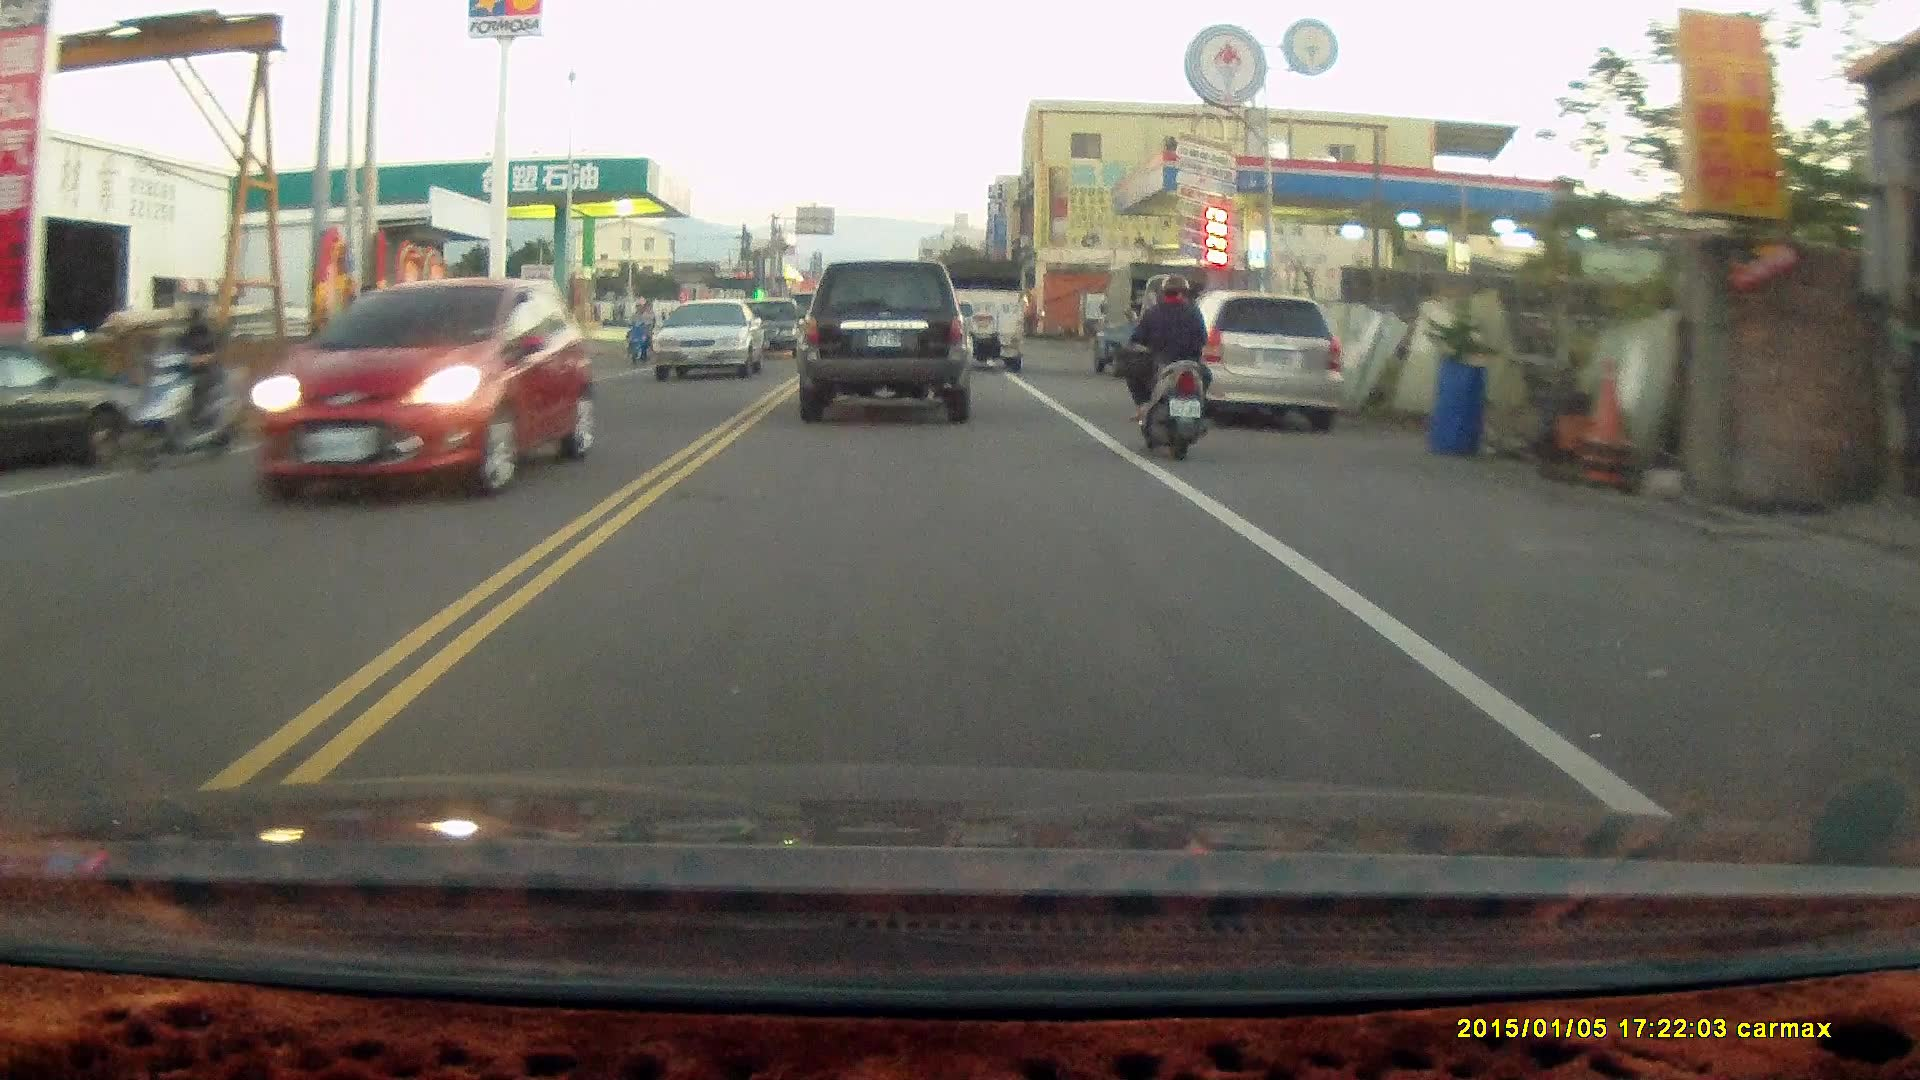rider: (103, 296, 247, 479), (1117, 271, 1214, 457), (622, 298, 659, 364)
vehicle: (261, 278, 592, 503), (358, 280, 564, 433), (795, 259, 970, 424), (1163, 291, 1341, 436), (1, 331, 138, 470), (1094, 262, 1209, 378), (938, 252, 1026, 370), (653, 298, 768, 381), (734, 300, 810, 357)
